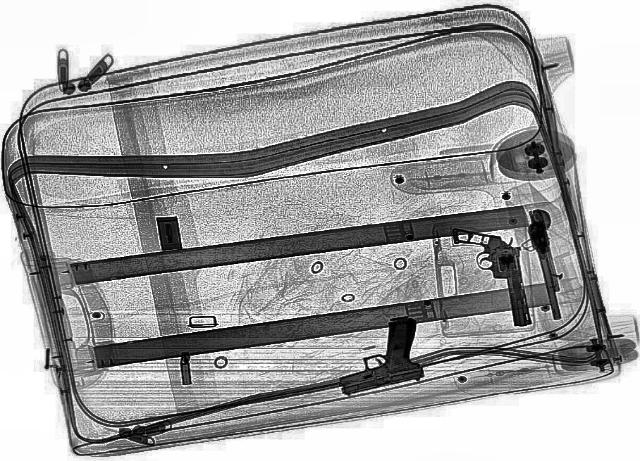Gun: (312, 313, 440, 393), (448, 219, 538, 331), (520, 206, 574, 318)
